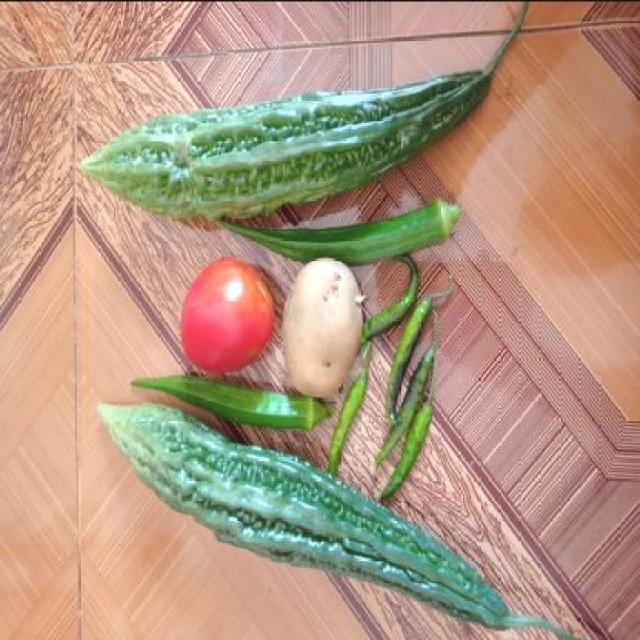Bitter melon: (80, 30, 489, 226), (178, 463, 511, 640)
Green Chili: (380, 275, 437, 460)
Lady finger: (137, 375, 331, 440)
Potato: (282, 258, 364, 404)
Tomato: (178, 252, 277, 377)
